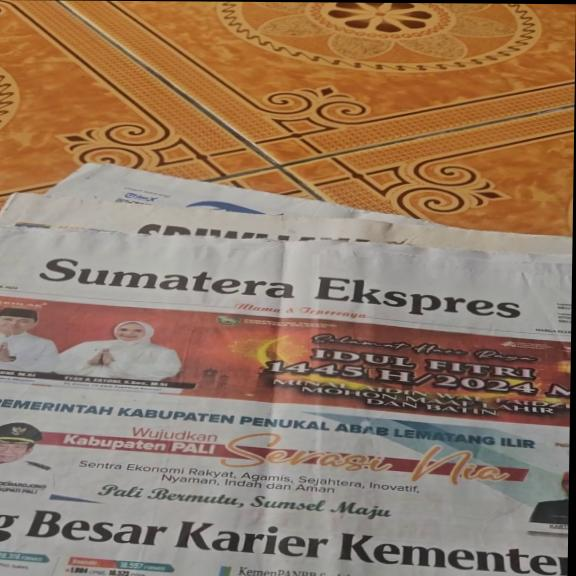Kertas: (0, 182, 562, 572)
